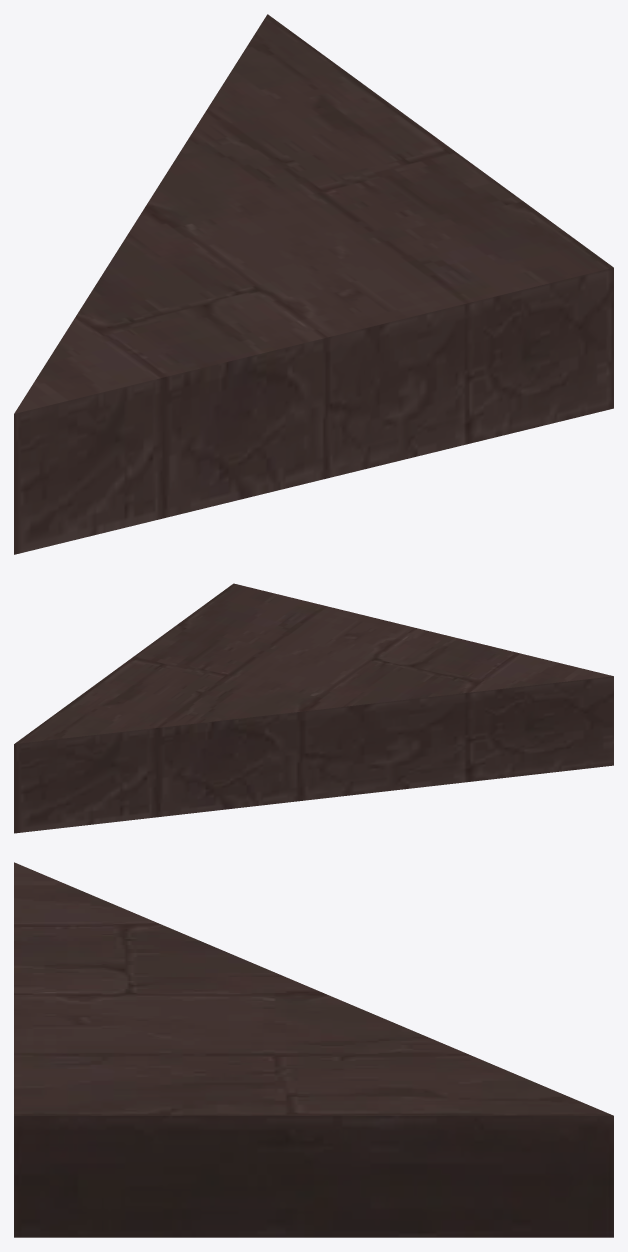
The picture shows the model from 3 angles, top to bottom: view 1: azimuth 30°, elevation 25°; view 2: azimuth 150°, elevation 25°; view 3: azimuth 270°, elevation 25°; orthographic projection. The views are drawn at different scales.
Bounding box in the file's own units: 1.11 × 0.25 × 1.11.
Materials: 1 (1 with a texture image).
